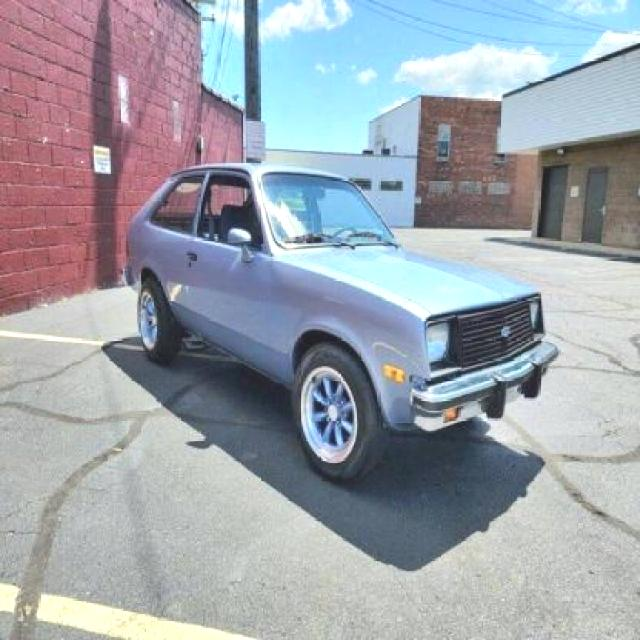car: (125, 166, 559, 486)
